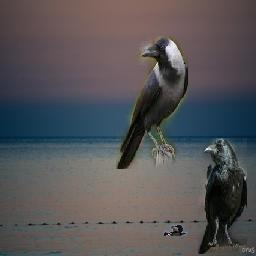Crow: (116, 37, 188, 170), (199, 138, 248, 254)
Woodpecker: (164, 224, 189, 236)
